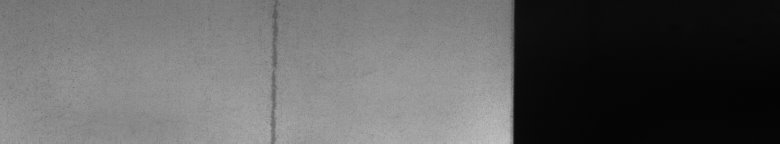hd: (267, 4, 282, 136)
